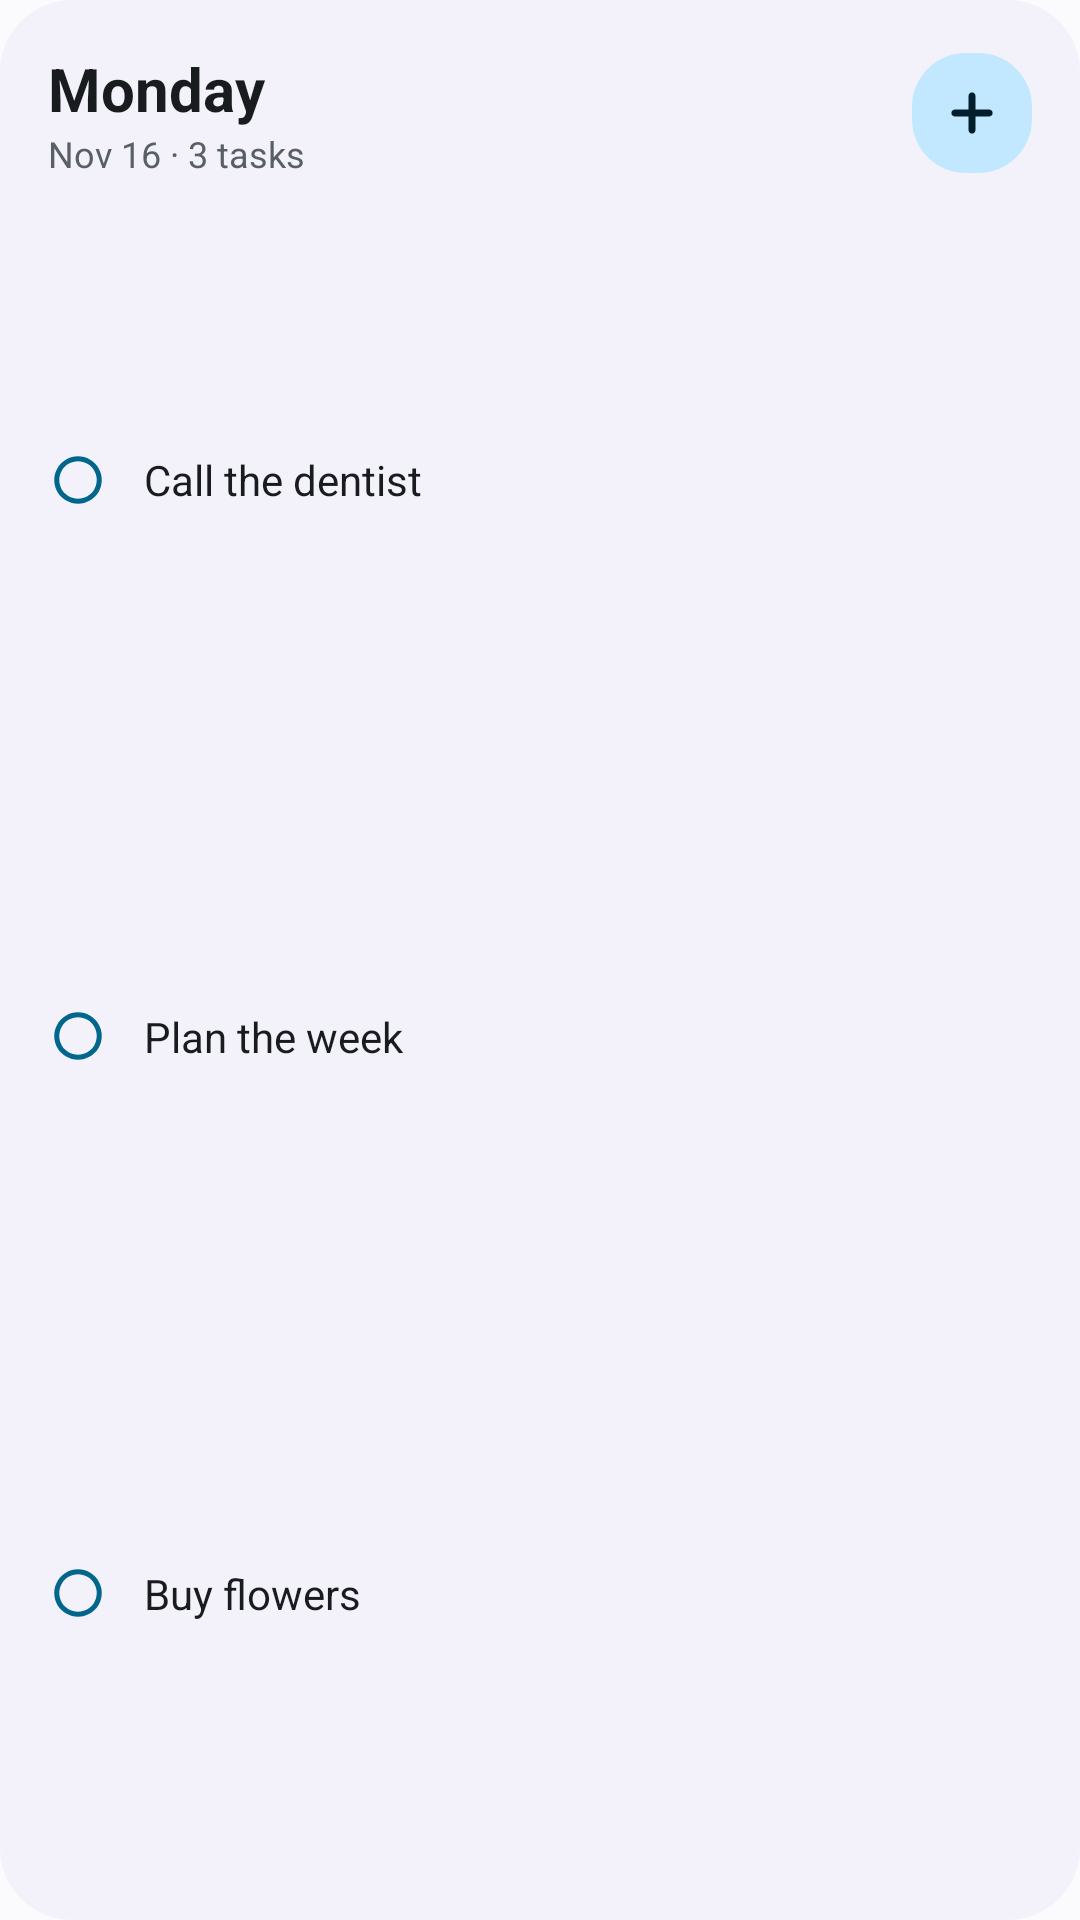

Point at icon controls on the screen. Image size 1080w x 1920h, points as (x,y).
add: (972,113)
